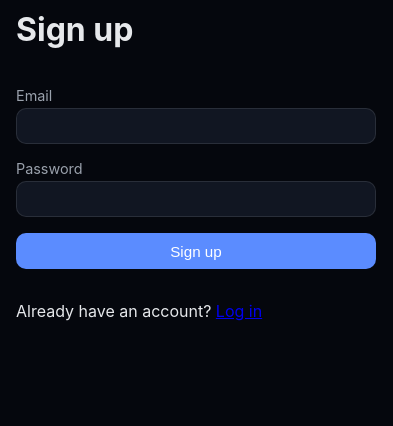
Test: Register › asks the user to confirm their email when there is no session yet
The image size is (393, 426).
Type "a@b.com" into the field labelled "Email". click: (196, 126)
box: [16,108,376,144]
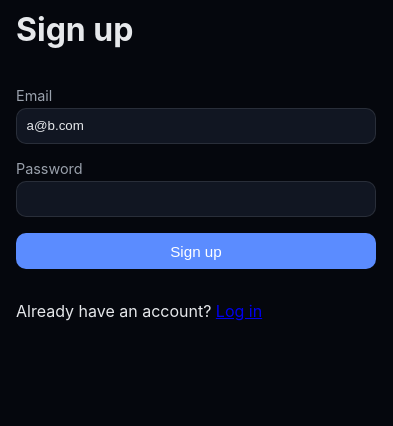
Type "secret1" into the password field labelled "Password". click: (196, 199)
box: [16,181,376,217]
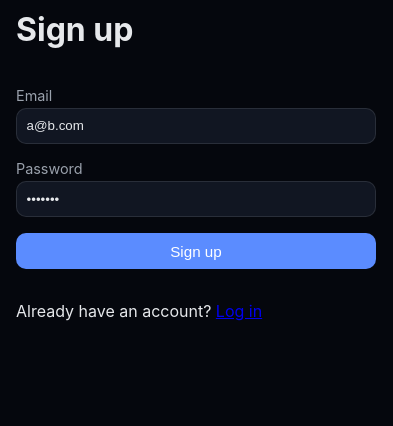
Click the button "Sign up". click: (196, 251)
box: [16,233,376,270]
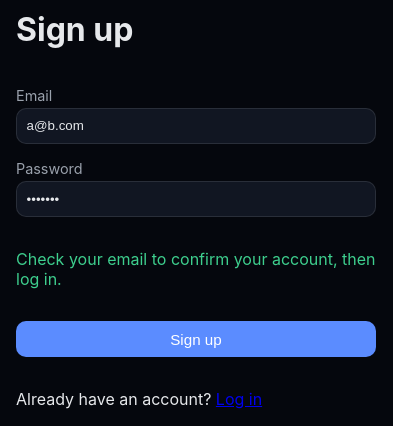
Expected: the text "Check your email to confirm your account, then log in." is shown, [16,249,376,289]
